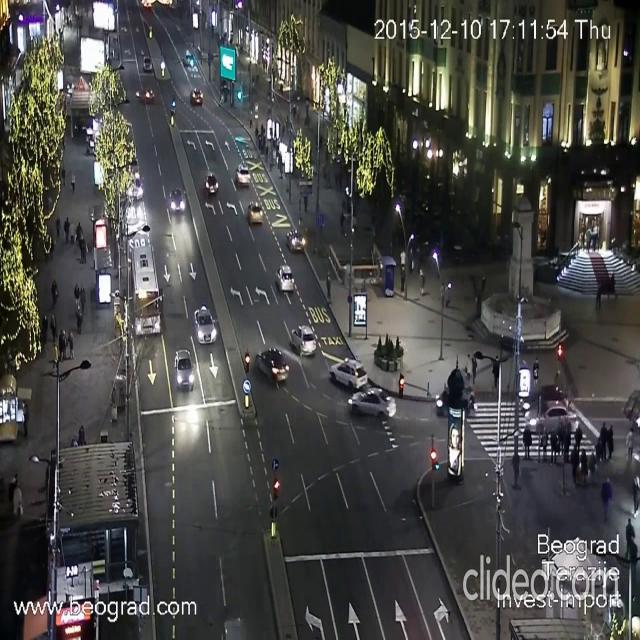bus: (130, 242, 162, 332)
car: (525, 404, 581, 438), (255, 347, 289, 383), (434, 388, 478, 414), (348, 393, 396, 416), (332, 357, 366, 387), (522, 390, 564, 414), (193, 306, 217, 344), (174, 349, 194, 391), (290, 324, 316, 356), (274, 264, 294, 292), (286, 232, 308, 252), (168, 188, 186, 212), (127, 177, 143, 202), (247, 201, 263, 225), (236, 162, 250, 186), (204, 172, 218, 196), (190, 87, 203, 106), (145, 91, 157, 104), (144, 60, 152, 76)
